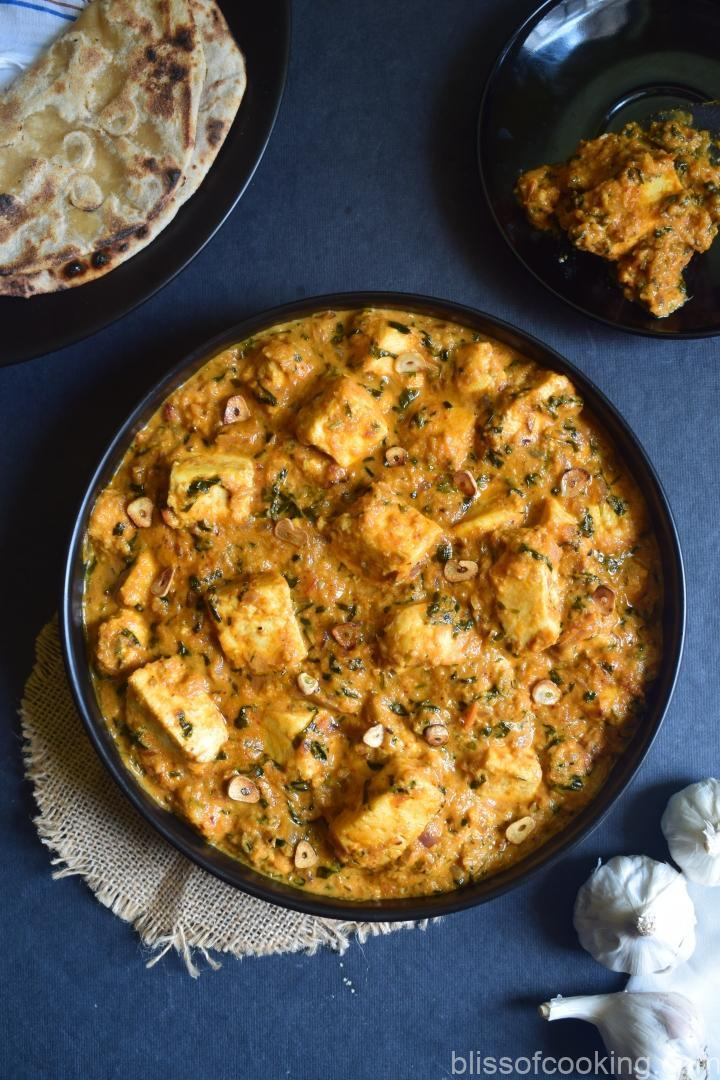paneer: (168, 388, 578, 783)
roti: (0, 8, 191, 276)
